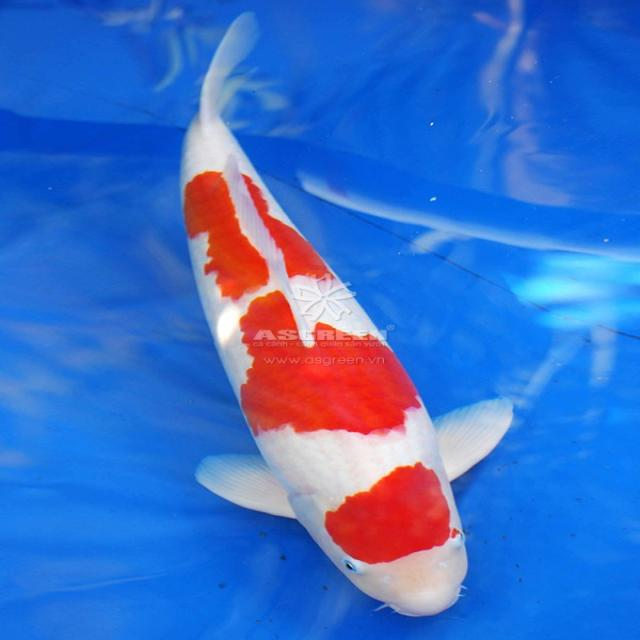Kohaku: (177, 10, 514, 618)
